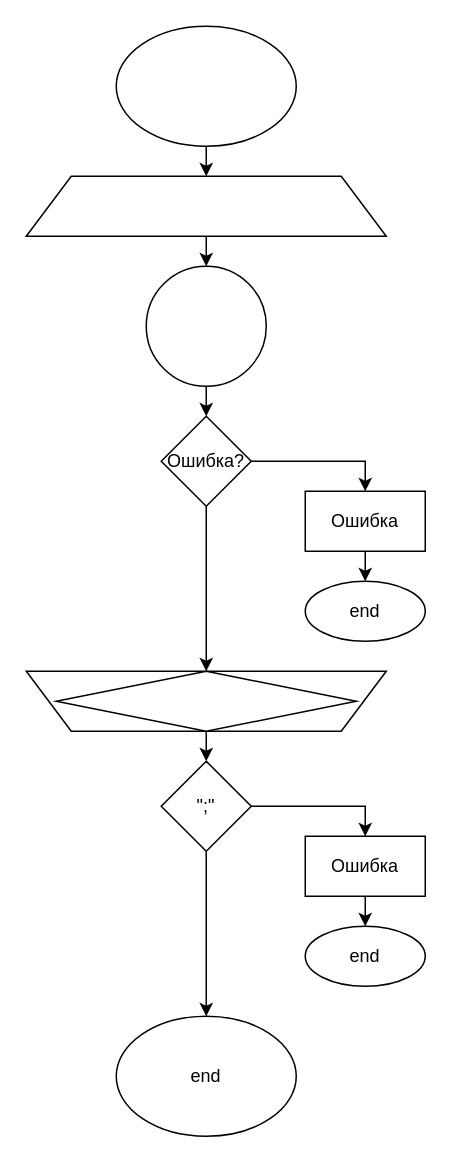
Image size: 452x1163. Some labels were removed from this diagram. The shapes that lost their labels are listed below. From the top down, each one's centre as x and y in pixels, then its label:
[205,85]: begin
[205,325]: andPart
[205,700]: след слово "||"
